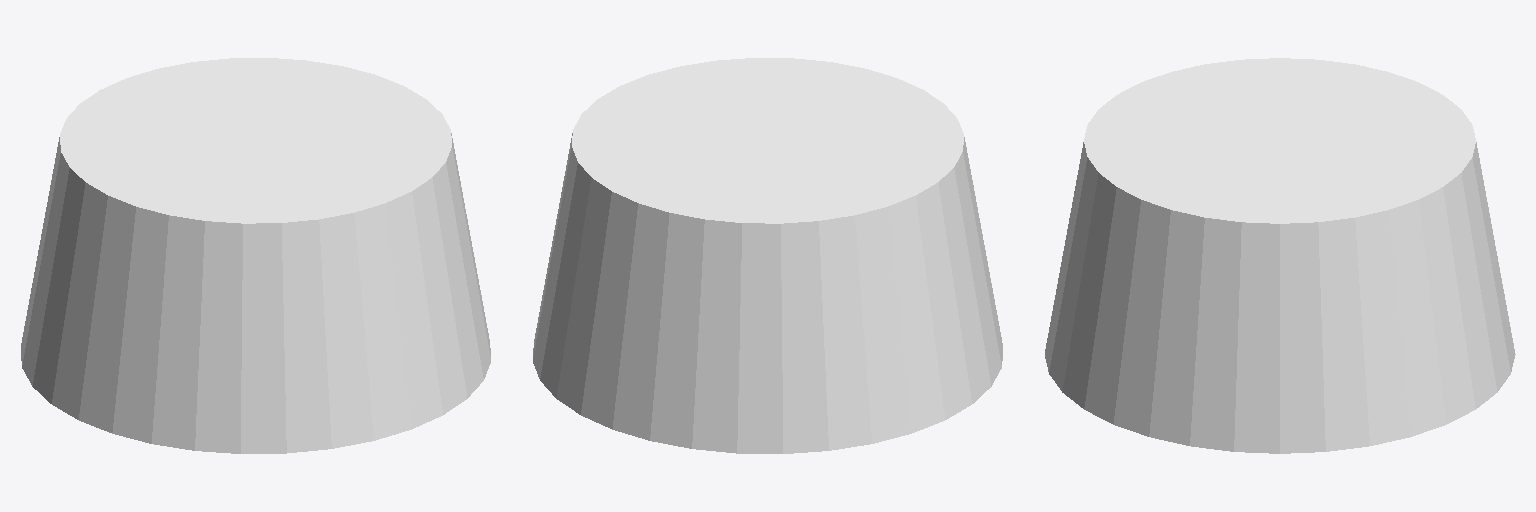
URDF robot description (truncated_cone1.urdf):
<?xml version="1.0" ?>
<robot name="truncated_cone1.urdf">
  <link name="baseLink">
    <contact>
    	<friction_anchor/>
    	   <lateral_friction value="0.5"/>
        <rolling_friction value="0.005"/>
        <spinning_friction value="0.005"/>
    </contact>
    <inertial>
      <origin rpy="0 0 0" xyz="0 0 0"/>
       <mass value="1"/>
       <inertia ixx="1" ixy="0" ixz="0" iyy="1.3" iyz="0" izz="0.5"/>
    </inertial>
    <visual>
      <origin rpy="1.5707 0 0" xyz="0 0 0"/>
      <geometry>
	<mesh filename="truncated_cone.obj" scale="1 1 1"/>
      </geometry>
       <material name="white">
        <color rgba="1 1 1 1"/>
      </material>
    </visual>
    <collision>
      <origin rpy="1.5707 0 0" xyz="0 0 0"/>
      <geometry>
	 <mesh filename="truncated_cone.obj" scale="1 1 1"/>
      </geometry>
    </collision>
  </link>
</robot>

--- Render facts (derived) ---
3 views of the same robot in one strip: view 1: azimuth 30°, elevation 25°; view 2: azimuth 150°, elevation 25°; view 3: azimuth 270°, elevation 25° (orthographic).
Model truncated_cone1.urdf with 1 links and 0 joints (none), rooted at baseLink, posed all joints at 0.
Visible links, largest first — view 1: baseLink; view 2: baseLink; view 3: baseLink.
Boxes of the visible links, x1,y1,x2,y2 form: baseLink: (21,58,490,453); baseLink: (533,58,1002,453); baseLink: (1045,58,1515,453).
Bounding box of the posed robot: 2 × 2 × 1 m (x, y, z).
1 mesh visuals loaded from 1 distinct referenced files (1 OBJ).